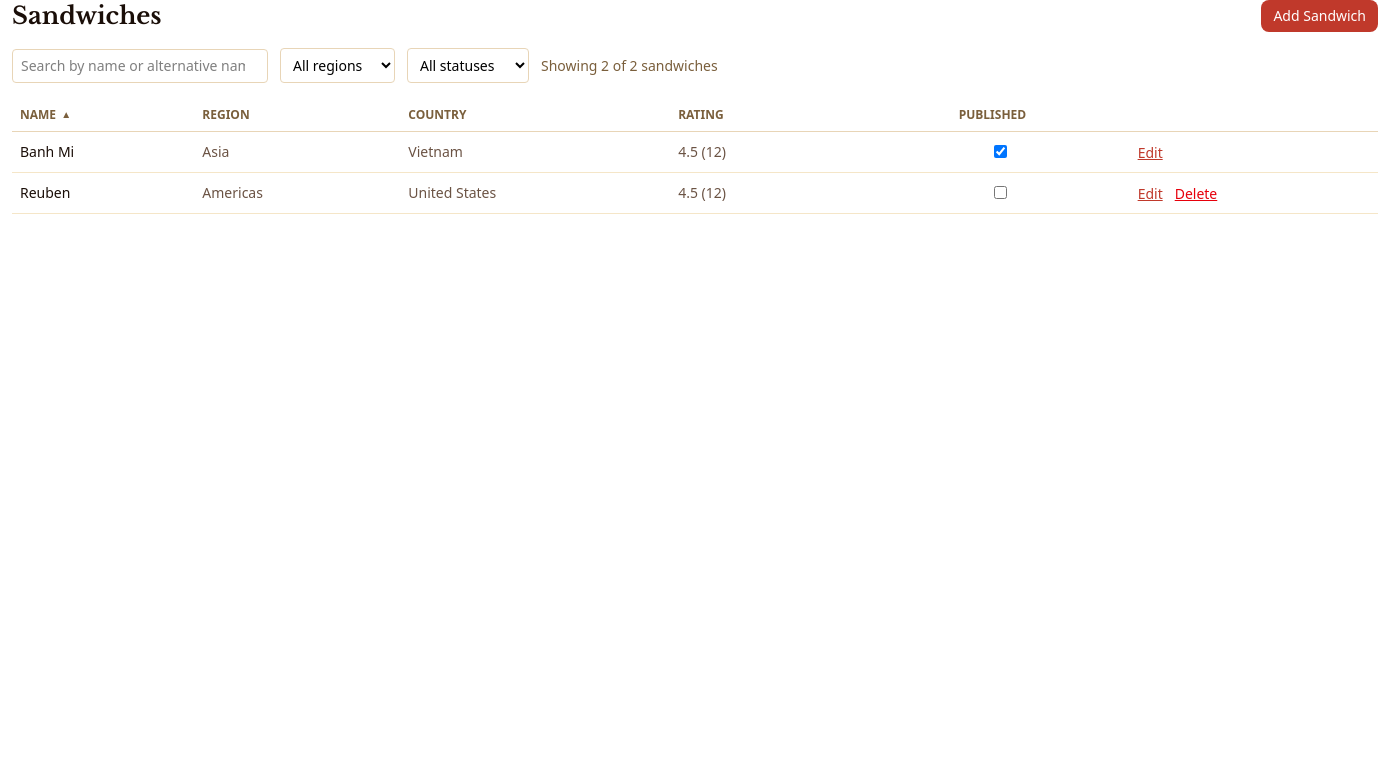
Test case: DatabaseManagementPage creating › creates the entry and adds it to the list
Expected: the text "Reuben" is shown, [12, 172, 194, 214]
Click the button "Add Sandwich" at (1320, 16), box [1261, 0, 1378, 32]
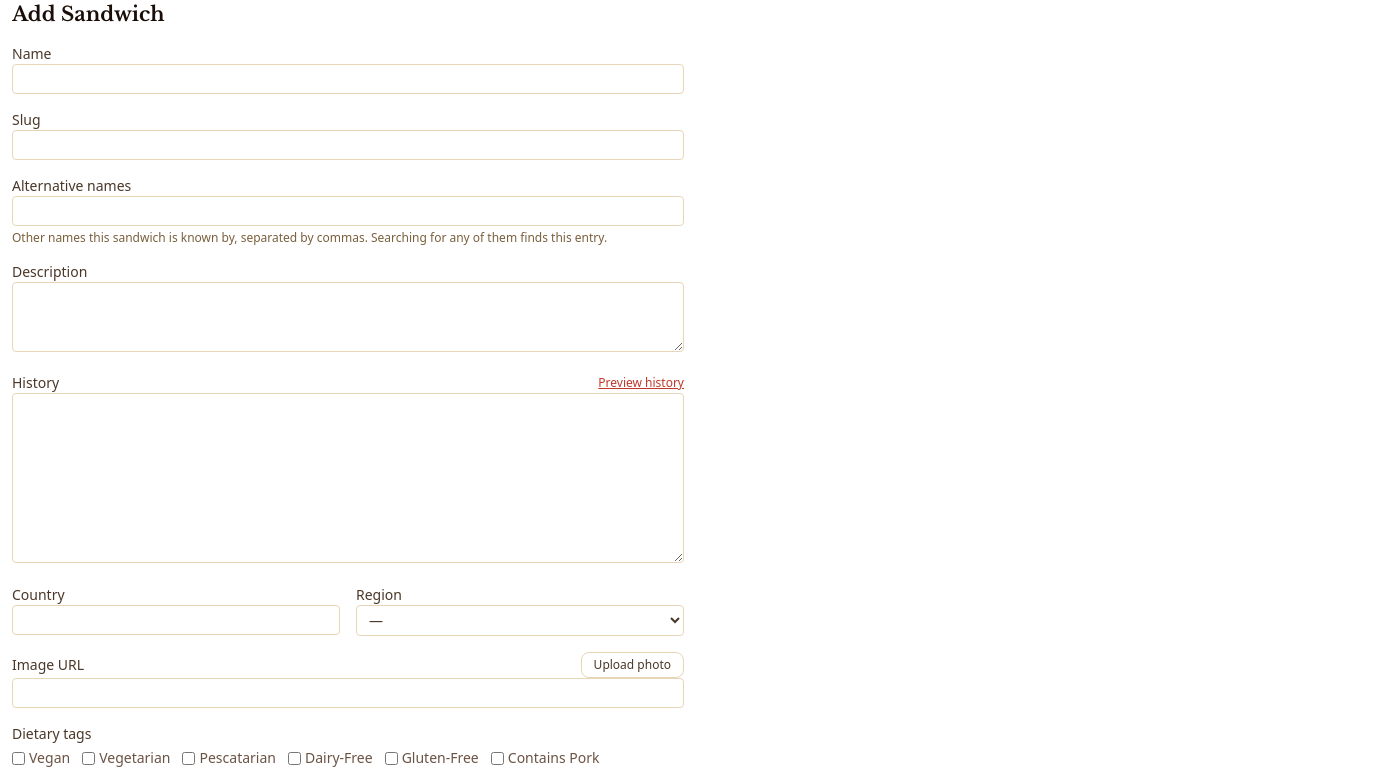
Type "Cubano" into the field labelled "Name" at (348, 79), box [12, 64, 684, 94]
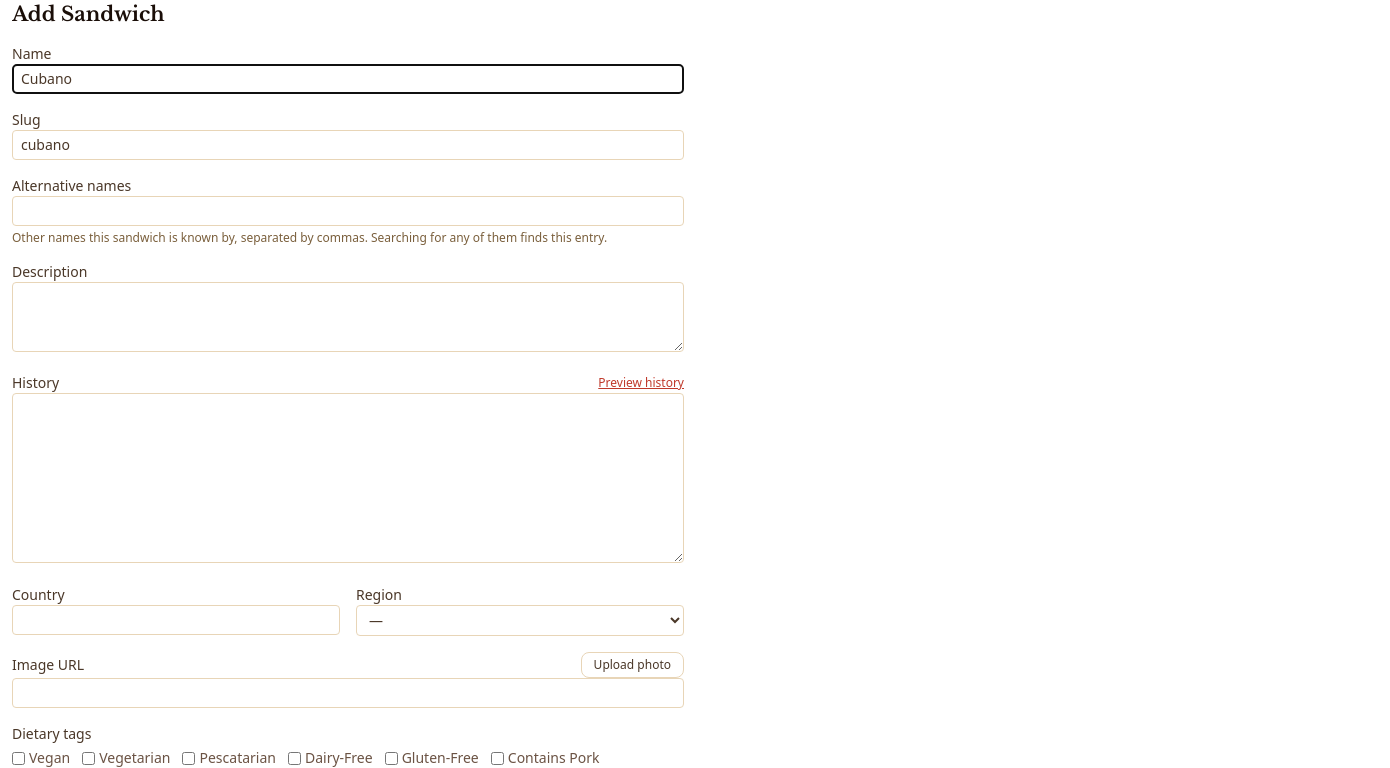
Select "Americas" in the dropdown labelled "Region" at (520, 620), box [356, 605, 684, 636]
(page scrolled)
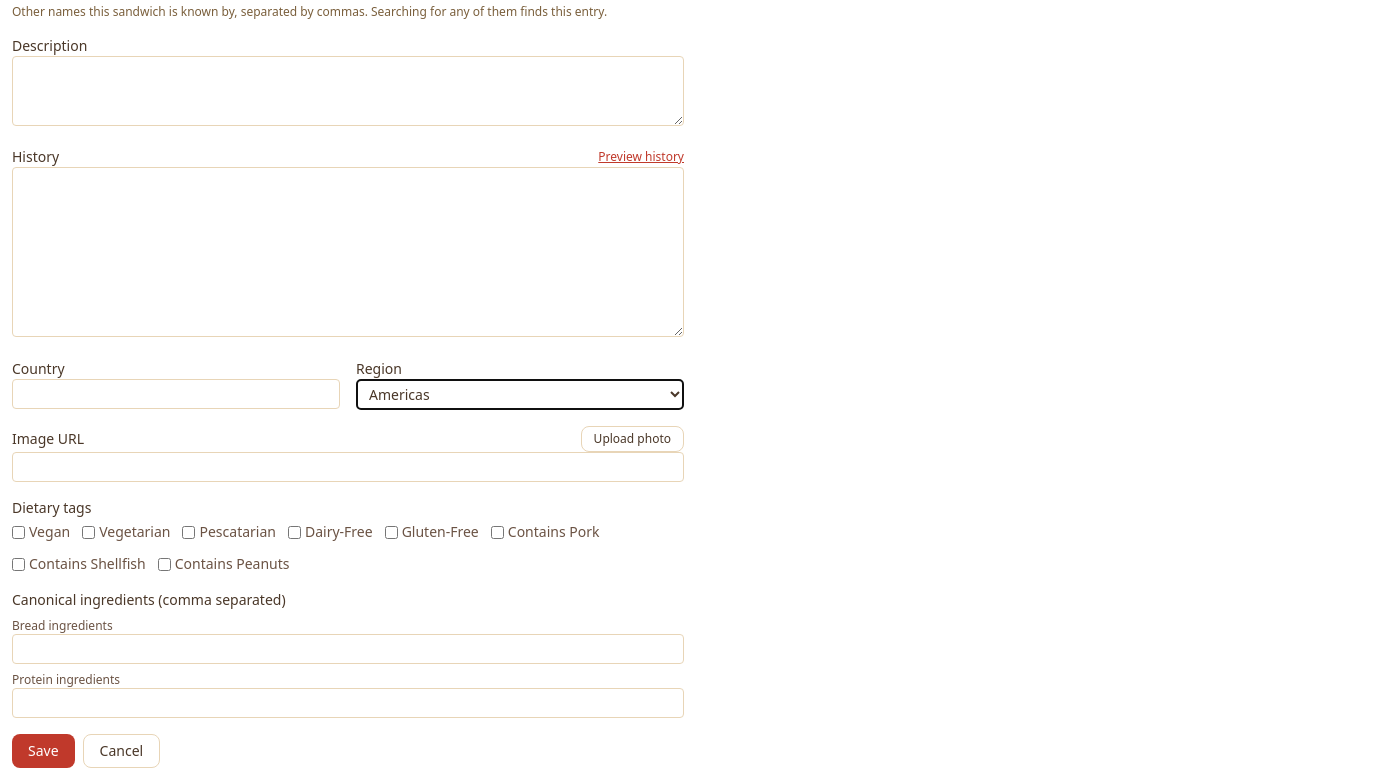
Click the button "Save" at (43, 751), box [12, 734, 75, 767]
(page scrolled)
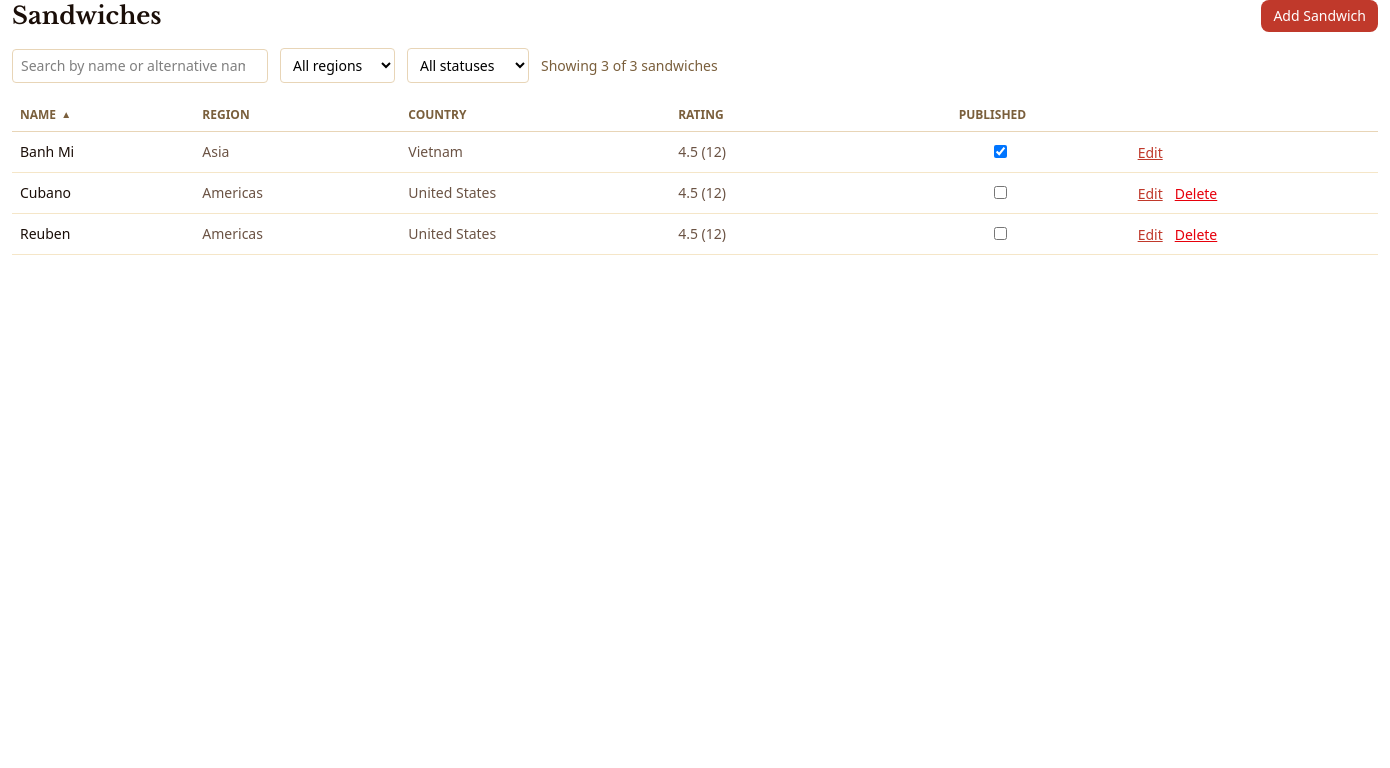
Expected: the text "Cubano" is shown, [12, 172, 194, 214]
